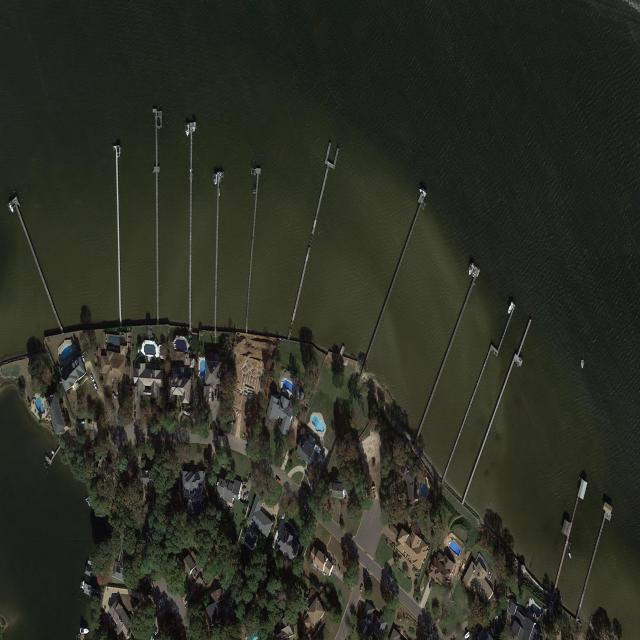ship: (468, 262, 475, 276), (507, 301, 514, 315), (419, 187, 427, 197), (8, 202, 14, 213), (80, 628, 90, 634), (568, 551, 573, 560), (81, 579, 85, 590), (186, 124, 189, 137), (214, 174, 217, 186), (118, 146, 120, 158), (581, 360, 584, 368), (193, 124, 195, 133)
small-vehicle: (184, 596, 189, 605), (321, 448, 326, 457), (184, 410, 190, 417), (304, 471, 309, 479), (94, 383, 98, 392), (82, 354, 86, 363), (81, 419, 86, 426), (112, 393, 117, 400), (359, 584, 363, 592), (91, 375, 95, 383), (429, 581, 433, 589), (276, 478, 281, 484), (248, 473, 252, 480), (211, 393, 214, 402), (243, 494, 246, 502), (246, 491, 249, 498), (242, 487, 246, 491), (217, 393, 219, 401), (215, 390, 217, 398), (88, 420, 92, 424)
